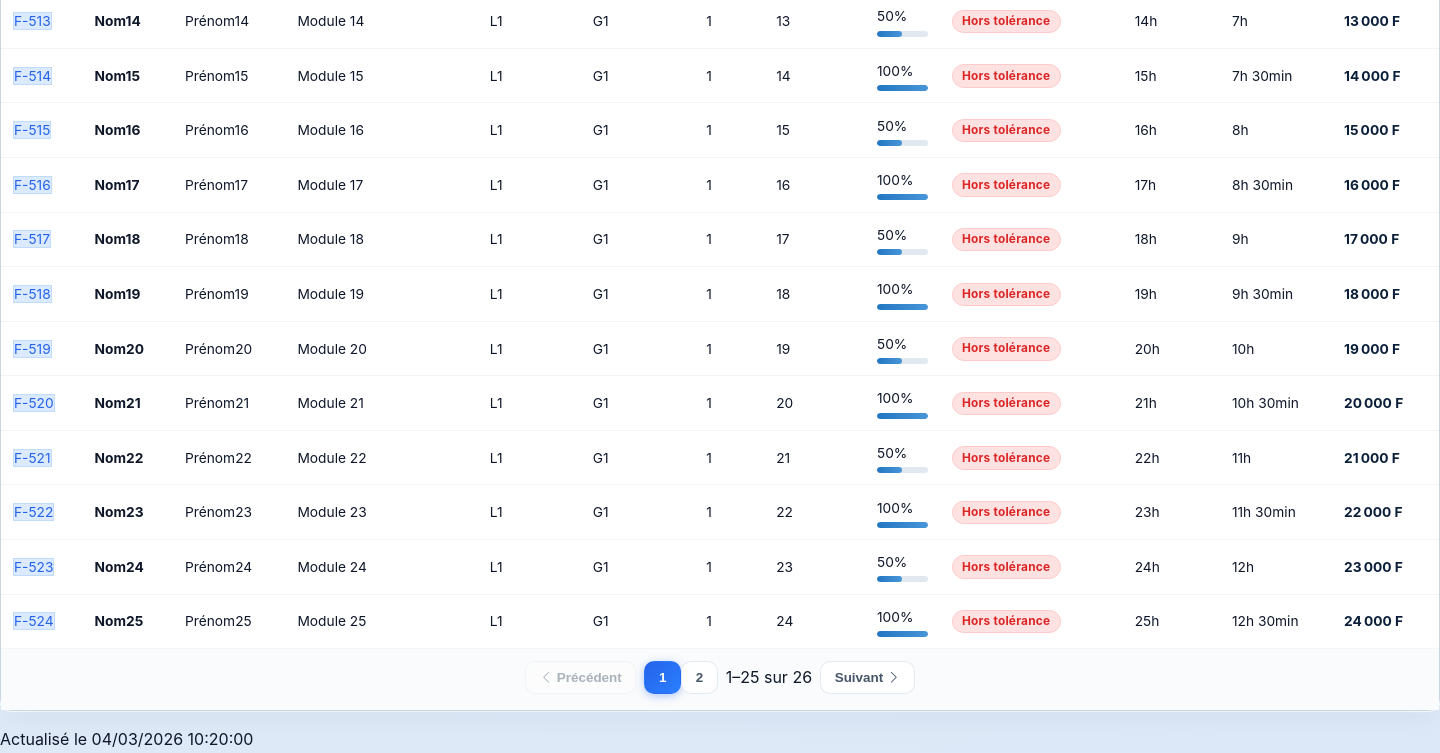
it: pages/FinanceDashboard.jsx — synthèse enseignants paginée (LOT 30) › pagine : suivante, numéro de page, précédente, et revient à 1 après Appliquer
(page scrolled)
Click the button with aria-label "Page suivante".
click(868, 678)  # box [820, 661, 915, 694]
(page scrolled)
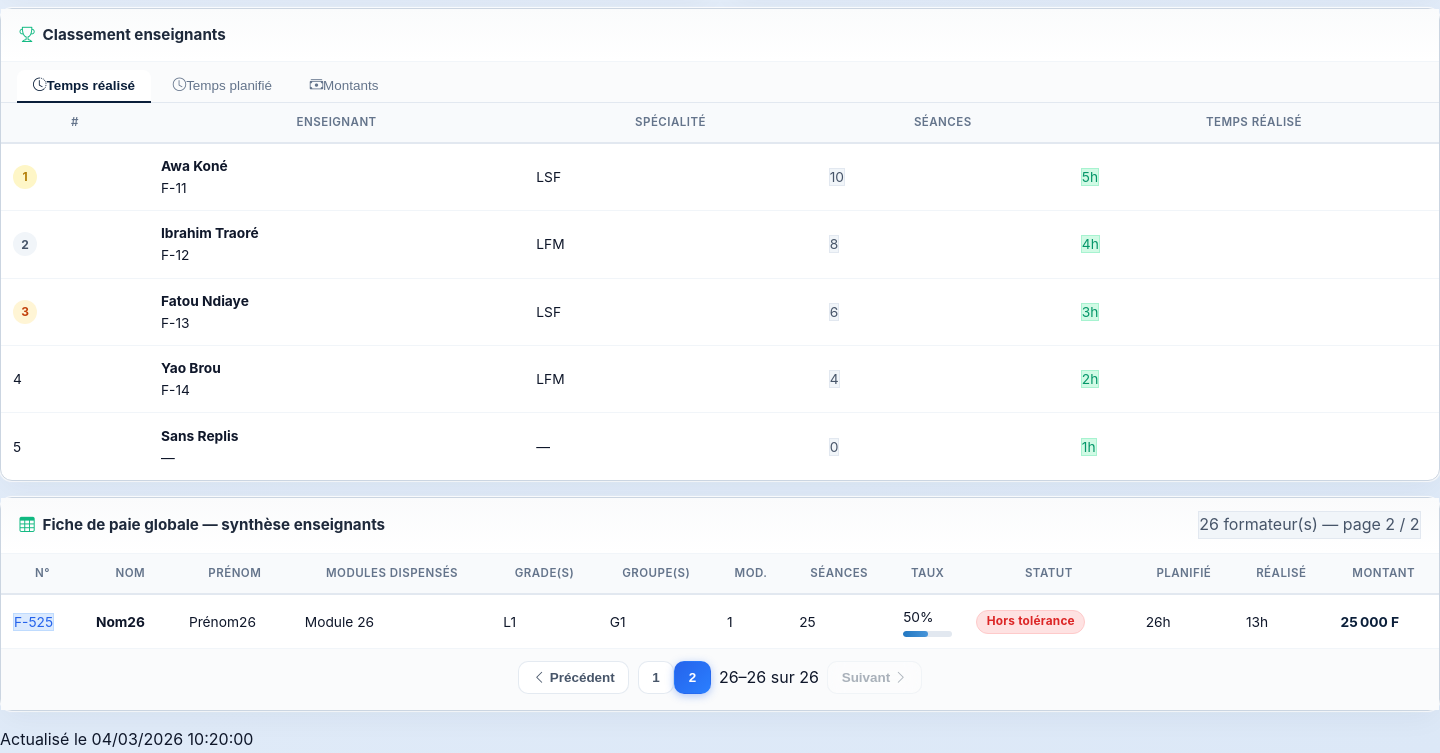
Expected: the element "Fiche de paie globale" shows "Nom26", [96, 614, 145, 630]
Expected: the element "Fiche de paie globale" no longer shows "Nom1", [0, 497, 1439, 711]
Expected: the element "Fiche de paie globale" shows "page 2 / 2", [0, 497, 1439, 711]
Click the button named "Page 1".
click(656, 678)  # box [638, 661, 674, 694]
(page scrolled)
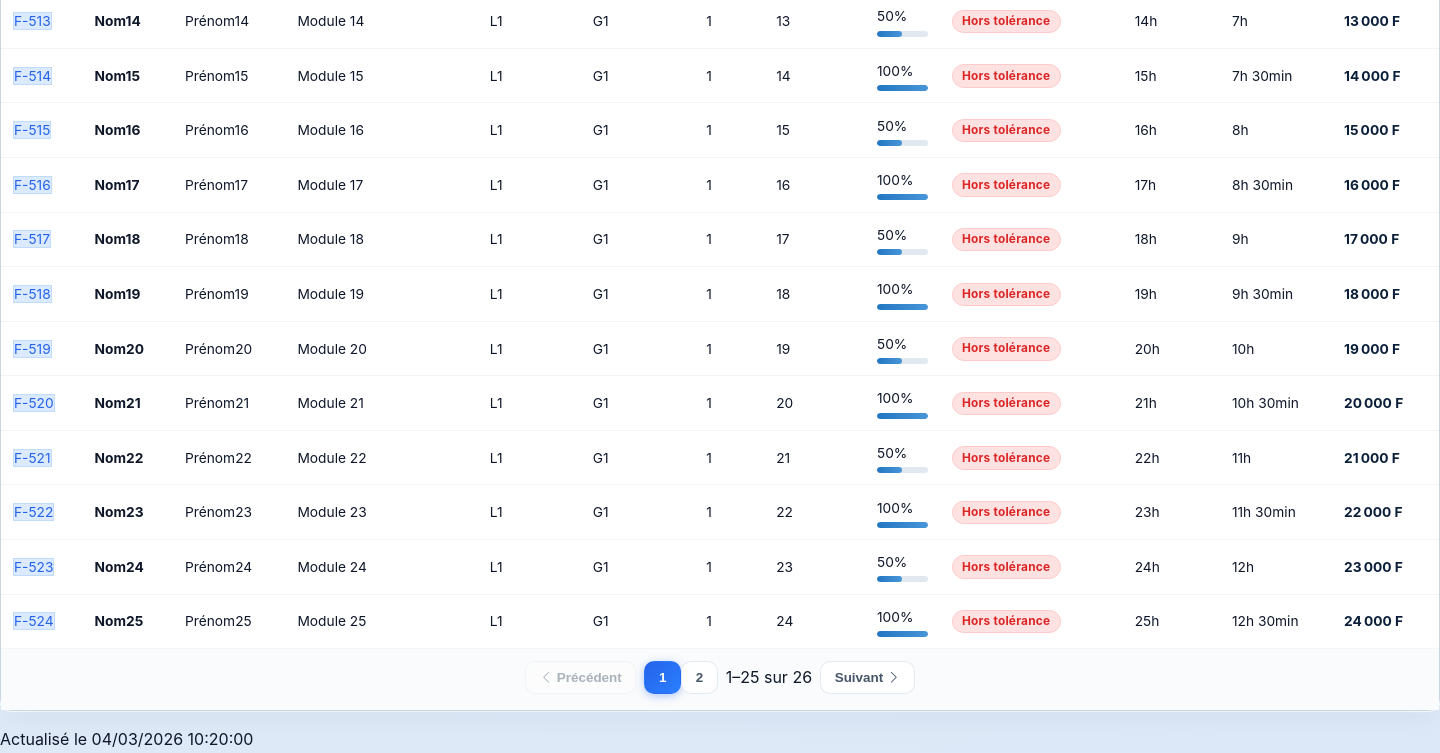
// Après un changement de période appliqué, la pagination se réinitialise.
Click the button with aria-label "Page suivante".
click(868, 678)  # box [820, 661, 915, 694]
(page scrolled)
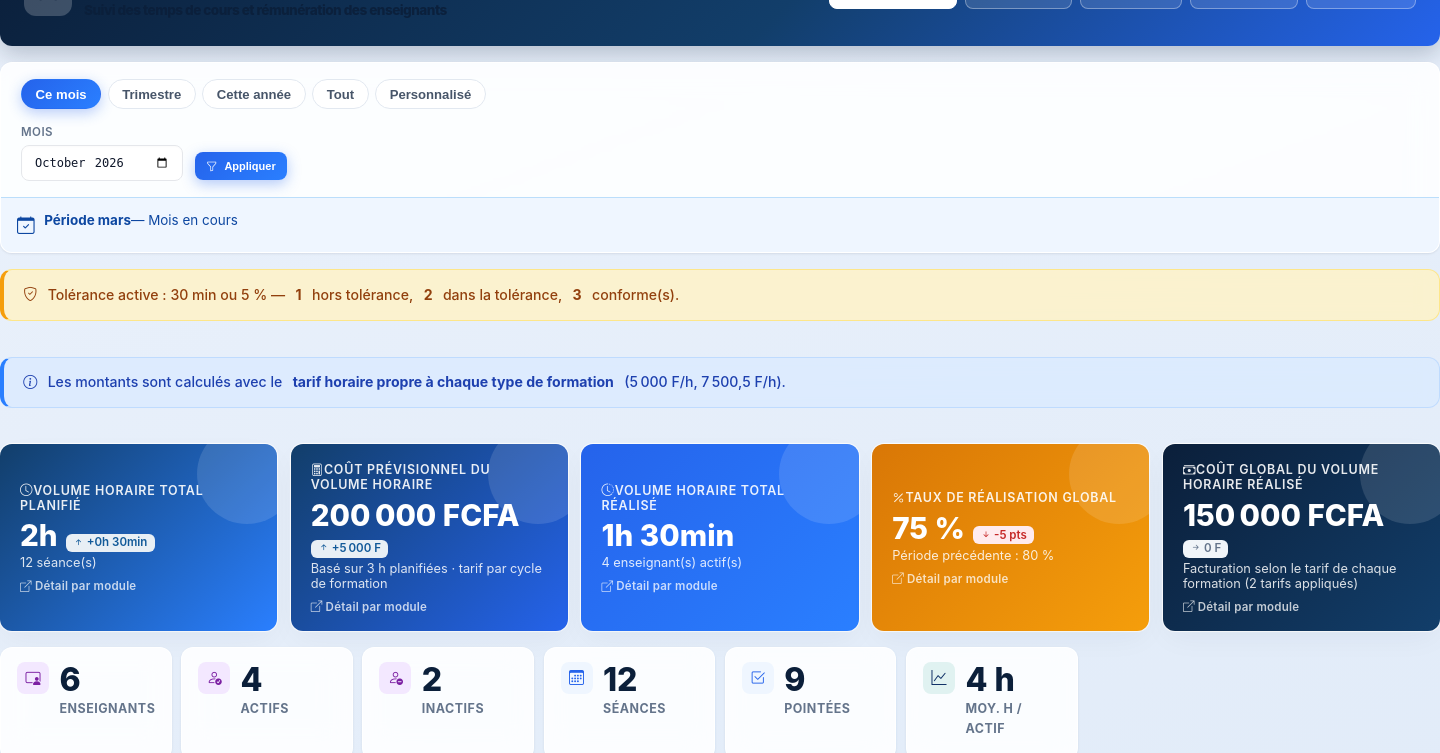
Click the button "Cette année".
click(254, 94)  # box [202, 80, 306, 109]
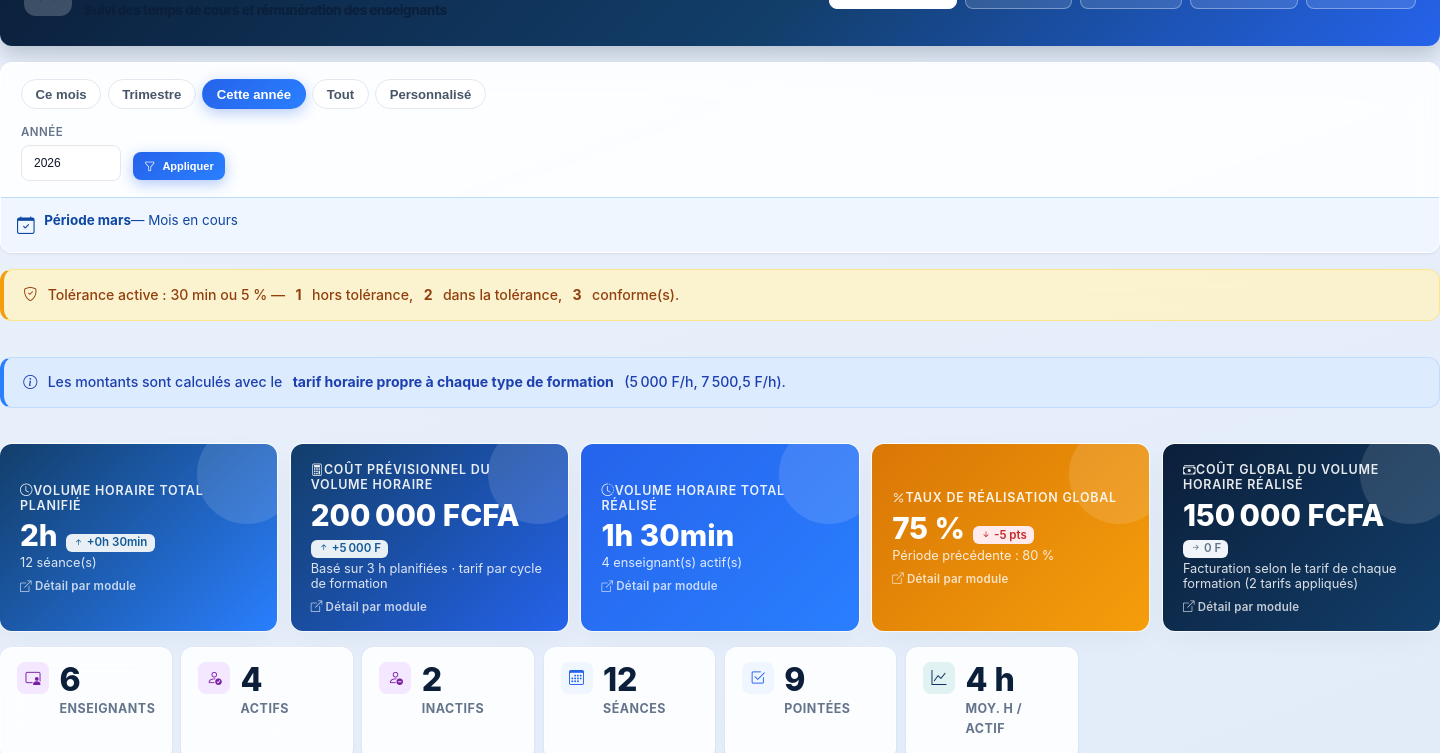
Click the button "Appliquer".
click(179, 166)  # box [133, 152, 225, 180]
(page scrolled)
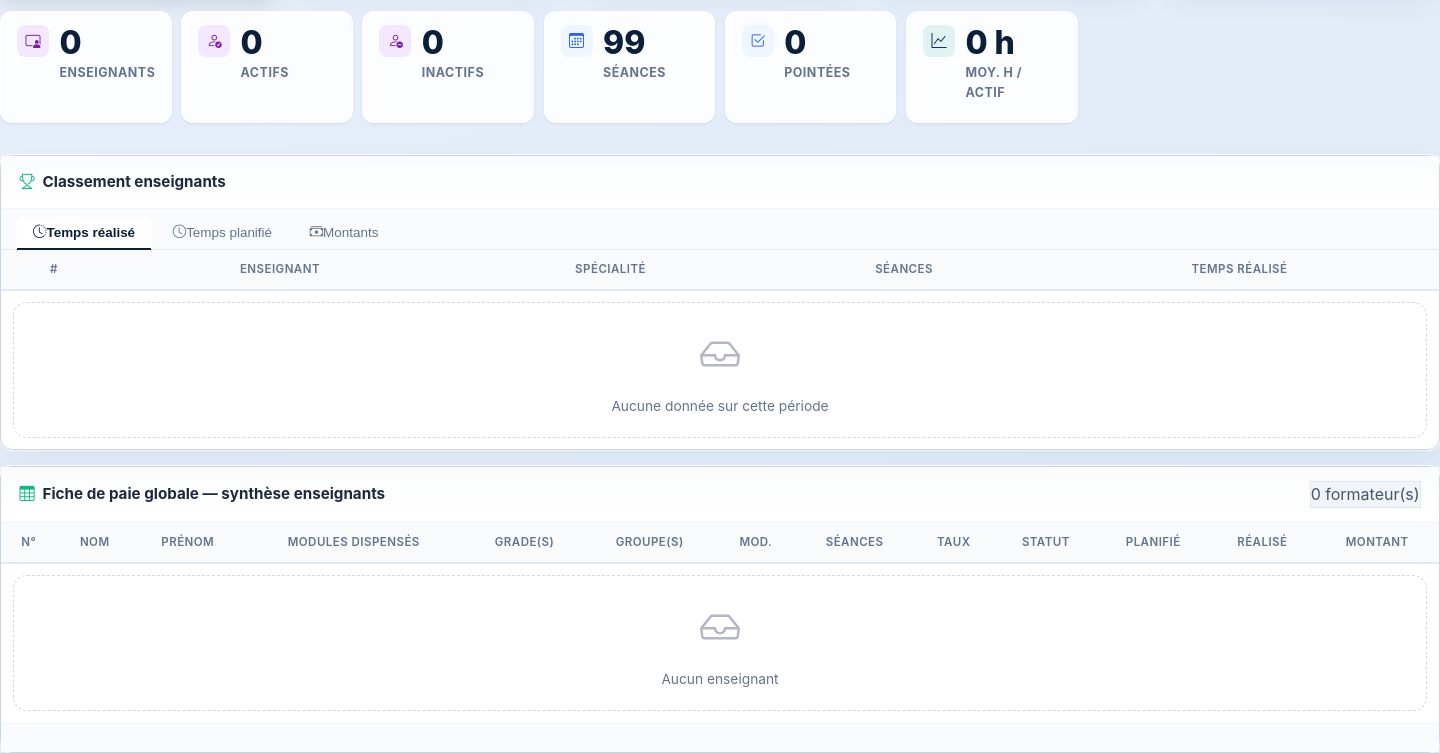
Expected: the element "Fiche de paie globale" shows "0 formateur(s)", [0, 466, 1439, 752]
Expected: the element "Fiche de paie globale" shows "Aucun enseignant", [661, 671, 779, 687]
